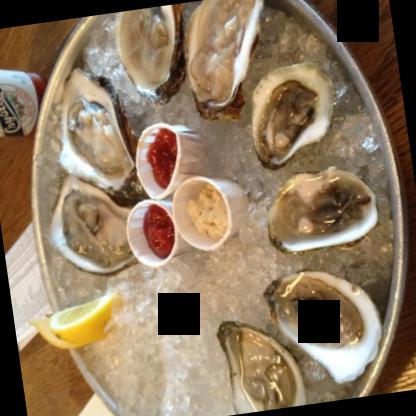oyster: (264, 259, 392, 388), (177, 0, 282, 123), (237, 49, 342, 169), (260, 158, 384, 254), (48, 64, 136, 194), (44, 169, 138, 279), (216, 305, 310, 414), (118, 2, 196, 104)
